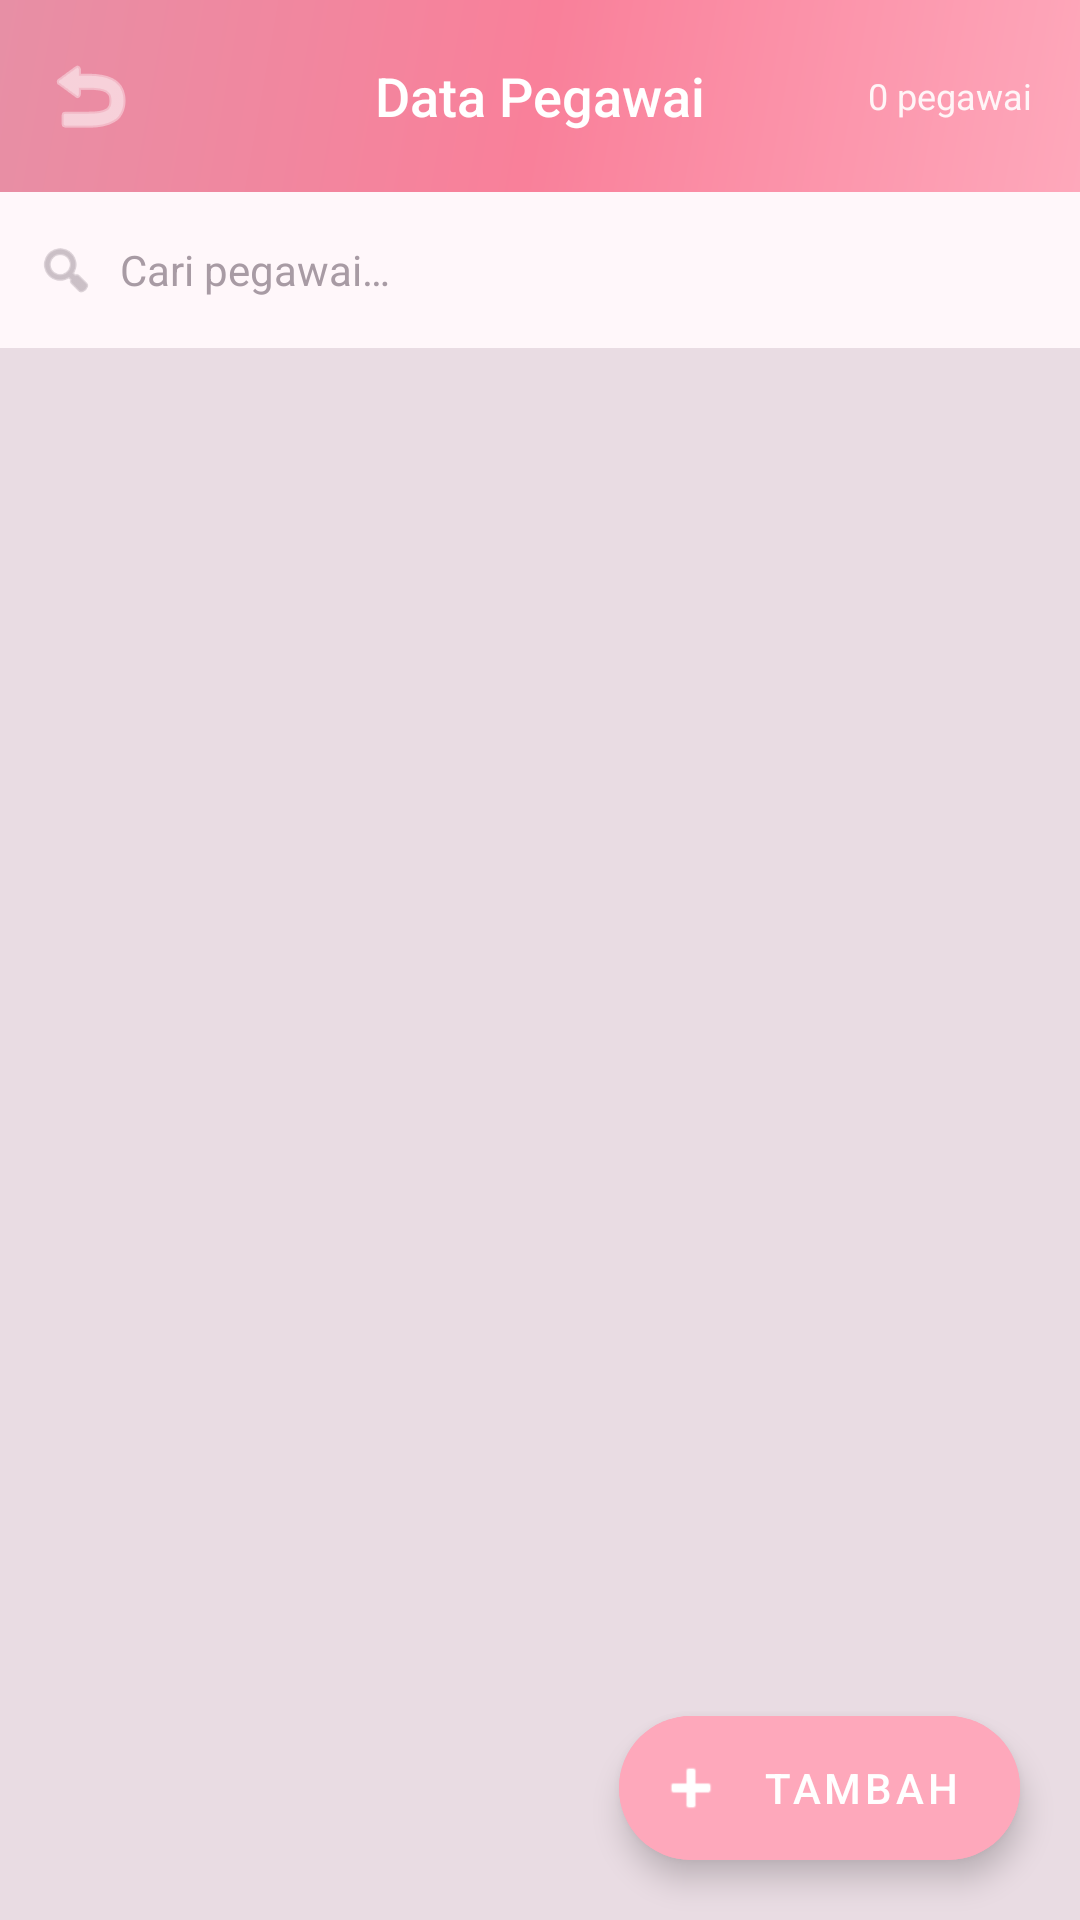

Named icons in this screenshot (1080 x 1920) and their bounding boxes, (x1, y1, x2, y2):
revert: (57, 66, 125, 128)
search: (44, 248, 88, 292)
